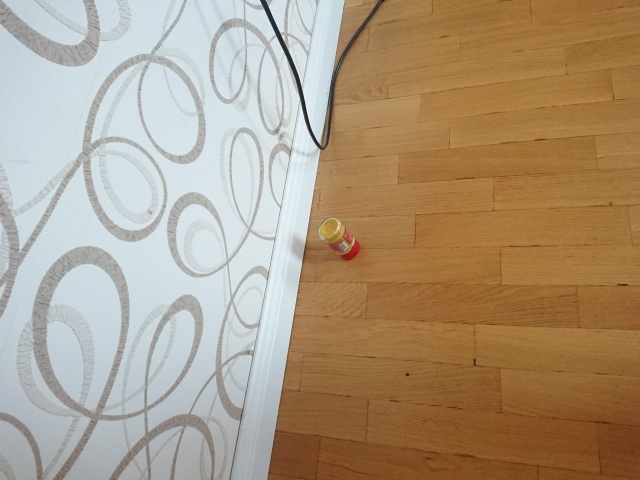Kotanyi Curry Spices Mix 70g: (317, 216, 362, 262)
